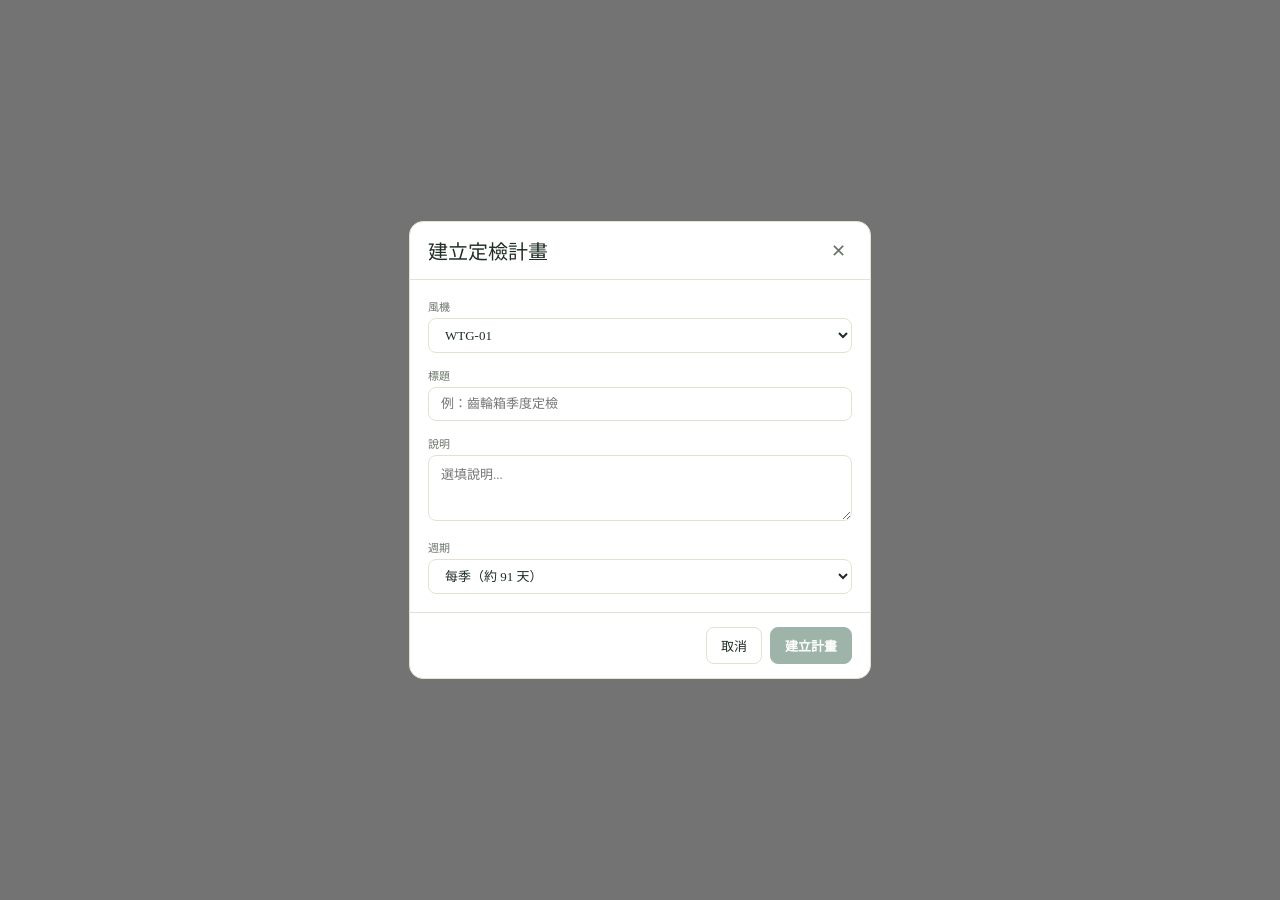
it: CreateInspectionScheduleModal 建立定檢計畫 › 切到 recurrence=custom_days → 顯示自訂天數欄位（預設值 45）
Select "自訂天數" in the dropdown labelled "週期". click: x=640, y=576
box: [428, 559, 852, 594]
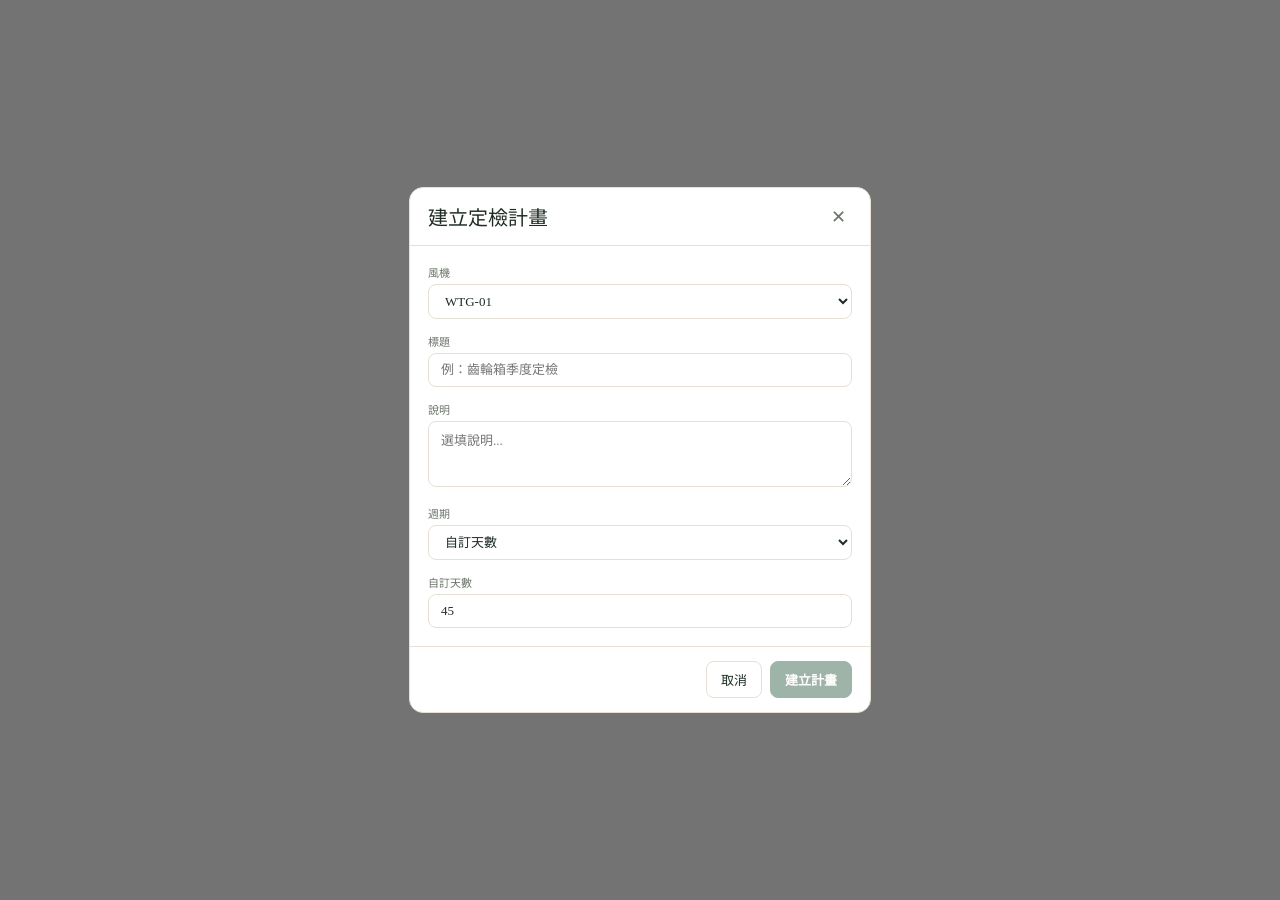
Check: the number field labelled "自訂天數" holds "45", box [428, 594, 852, 628]
